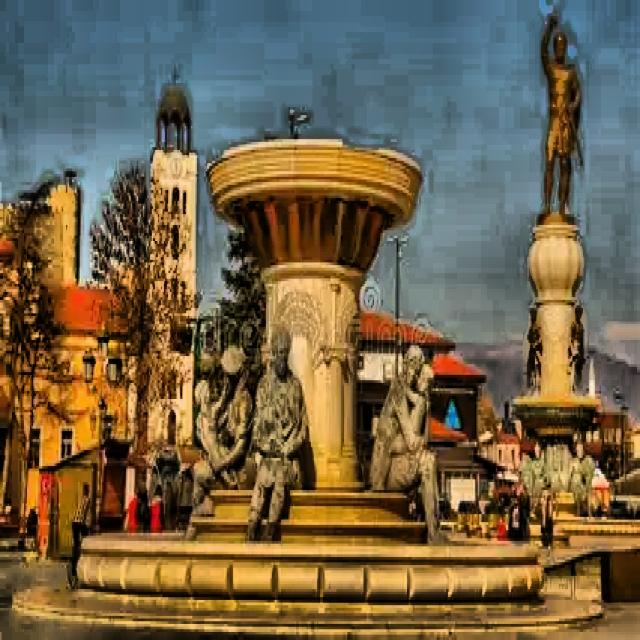Philip II of Macedonia: (520, 1, 600, 527)
